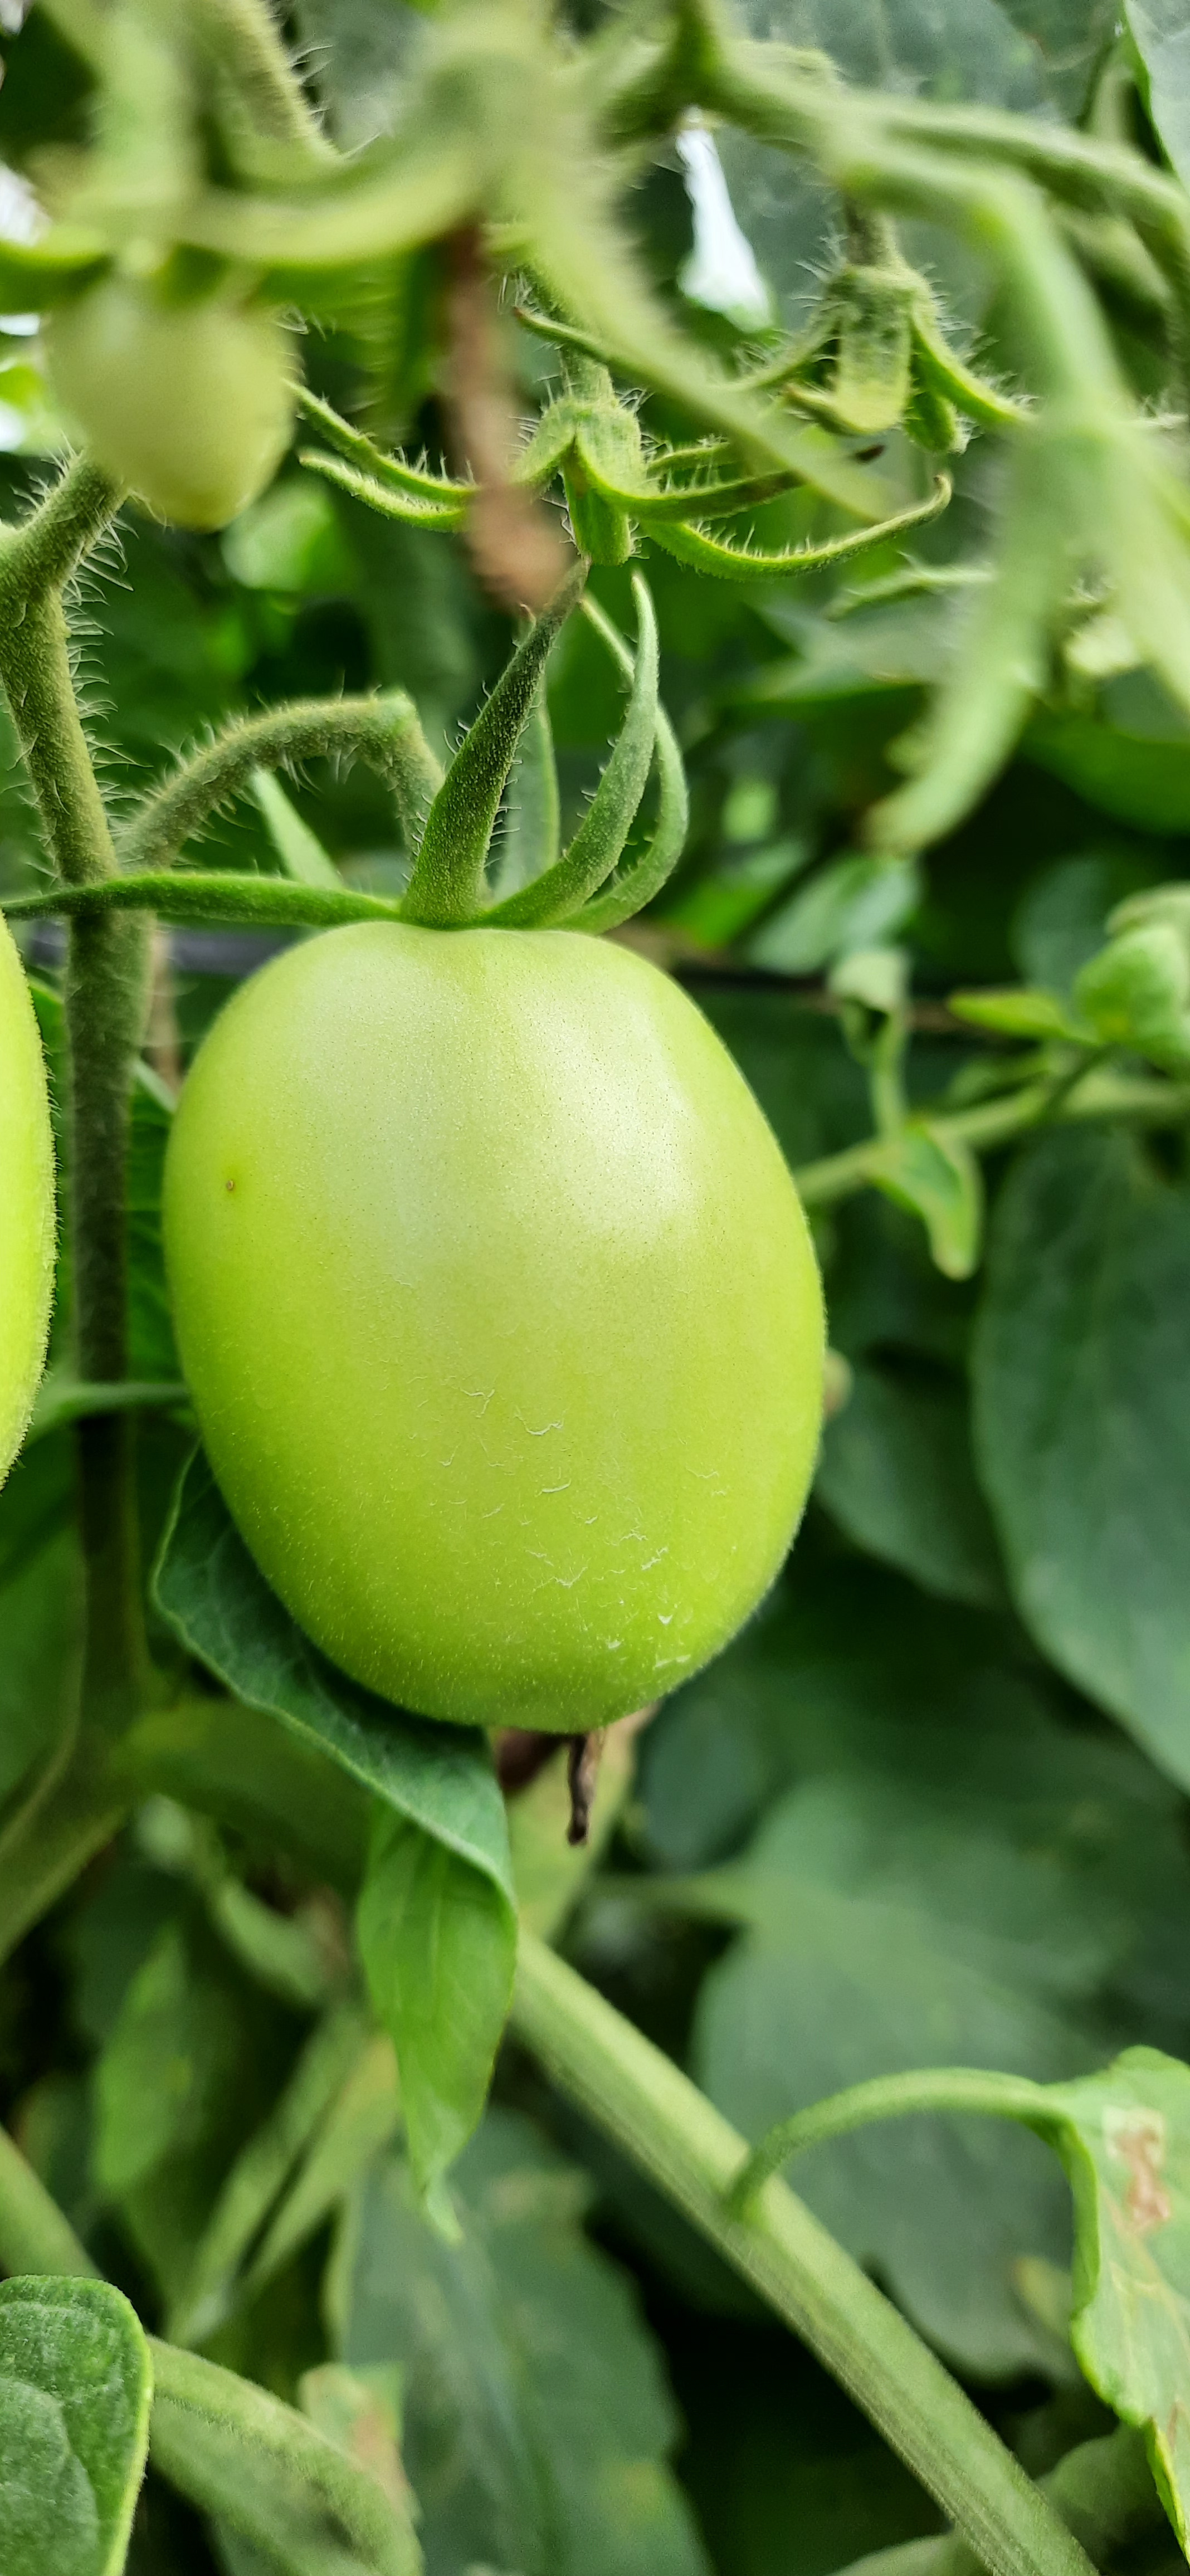raw_tomato: (169, 856, 832, 1751)
